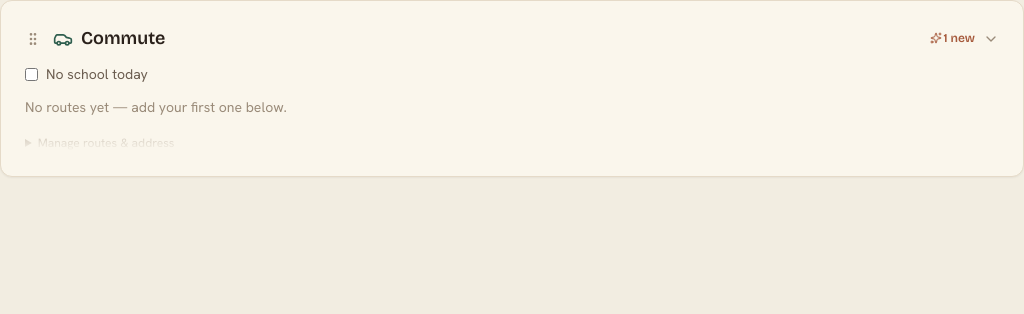
Scenario: CommuteCard › T-26 › shows a "new" badge and the suggestion prompt when a suggestion exists
Check: the text "1 new" is shown, box [930,28,975,46]
Click the heading "Manage routes & address" at [106, 143], box [38,135,174,151]
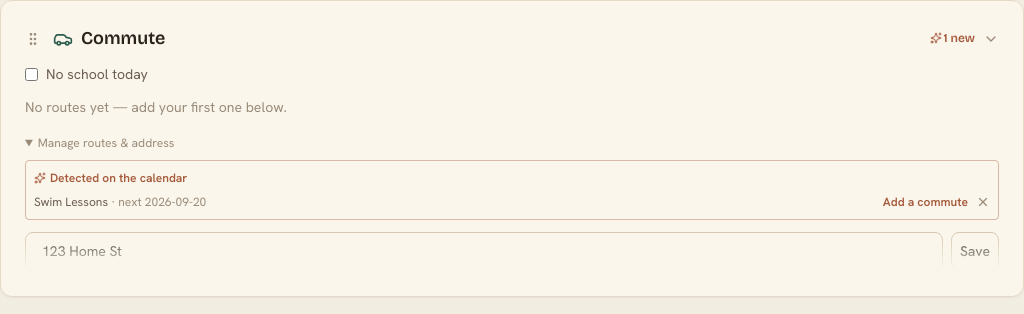
Check: the text "Swim Lessons" is shown, box [34,194,108,210]
Check: the text "· next 2026-09-20" is shown, box [108,194,206,210]
